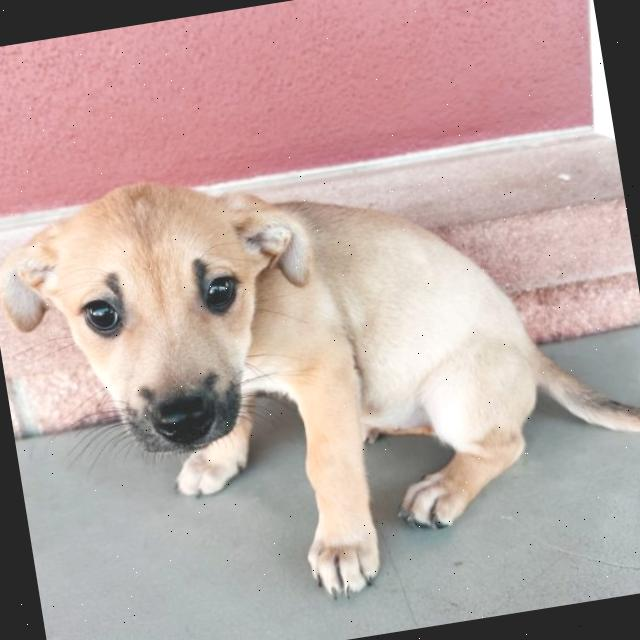corgi_dog: (0, 138, 353, 489)
